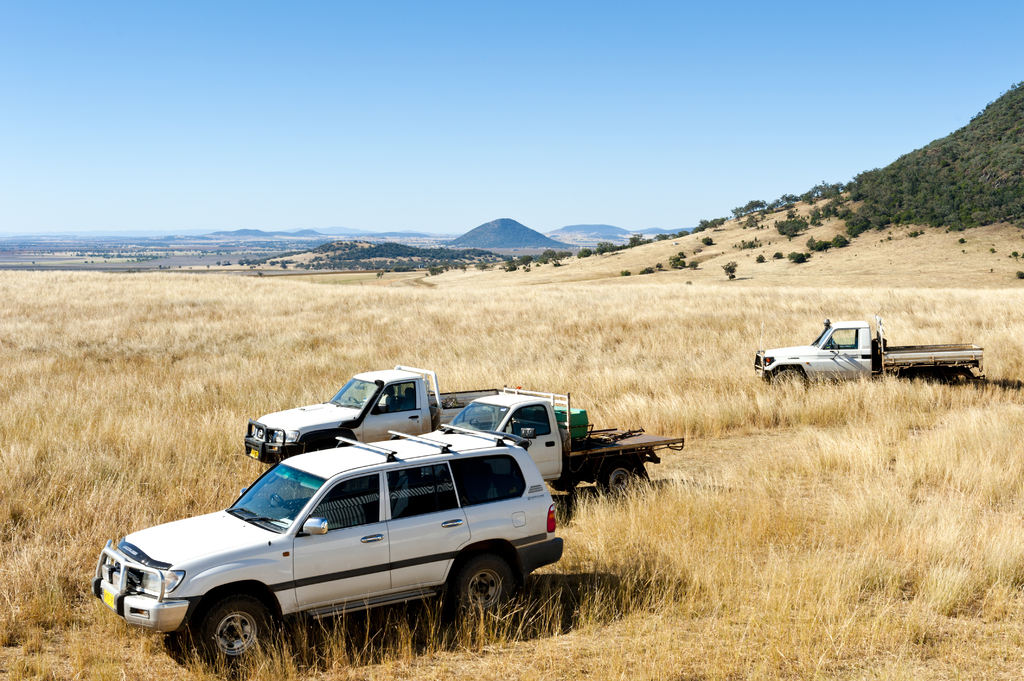Car: (88, 419, 568, 665)
